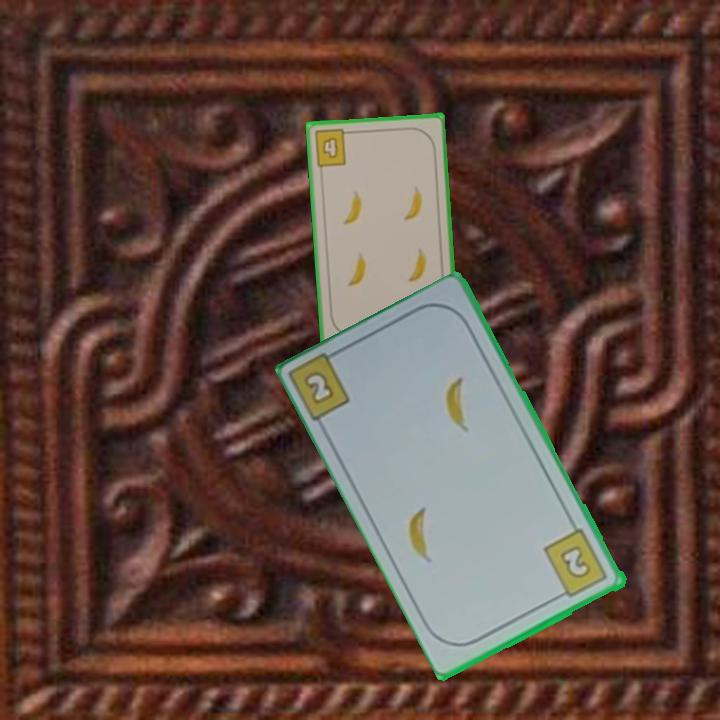2b: (541, 525, 611, 602), (300, 368, 338, 408)
4b: (310, 126, 354, 169)
